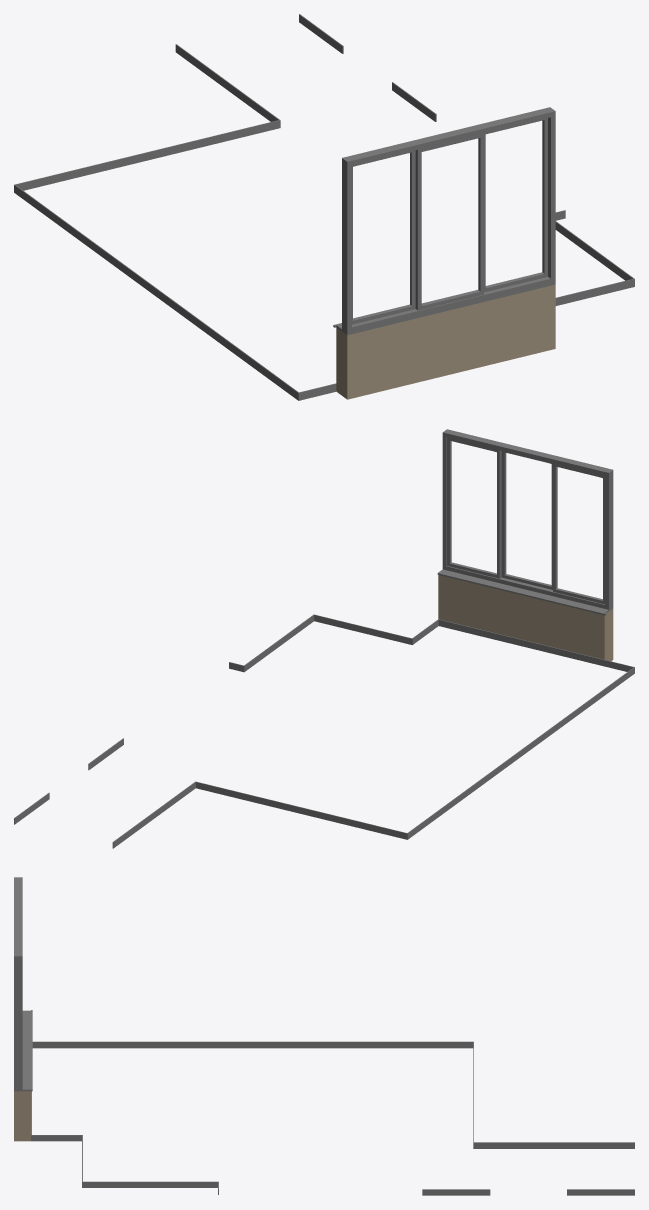
File: furniture.FBX
3 renders of one model, top to bottom at view 1: azimuth 30°, elevation 25°; view 2: azimuth 150°, elevation 25°; view 3: azimuth 270°, elevation 25°, orthographic. The views are drawn at different scales.
Visible parts, largest first — view 1: Rectangle01, Rectangle08, Line02, Rectangle04; view 2: Rectangle08, Rectangle01, Line02, Rectangle04; view 3: Line02, Rectangle08, Rectangle04, Rectangle01.
Part boxes in pixels (<box>): Rectangle01: <box>336,284,555,399</box>; Rectangle08: <box>342,107,555,333</box>; Line02: <box>14,14,634,400</box>; Rectangle04: <box>333,282,555,335</box>; Rectangle08: <box>442,429,613,609</box>; Rectangle01: <box>438,575,613,661</box>; Line02: <box>14,614,634,848</box>; Rectangle04: <box>437,569,613,615</box>; Line02: <box>31,1041,634,1195</box>; Rectangle08: <box>14,877,22,1089</box>; Rectangle04: <box>14,1010,32,1091</box>; Rectangle01: <box>14,1091,30,1141</box>.
Size of the model in its own units: 4112 by 2400 by 7300.
